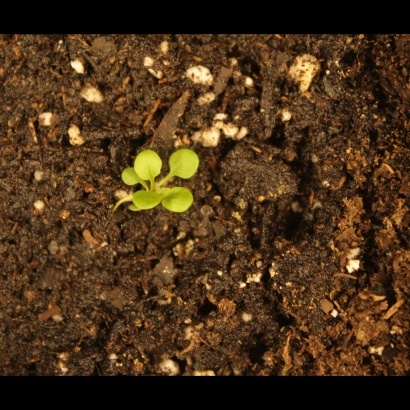leaf: (168, 146, 204, 183), (161, 182, 195, 218), (132, 146, 166, 177), (132, 186, 162, 214), (121, 165, 149, 189)
